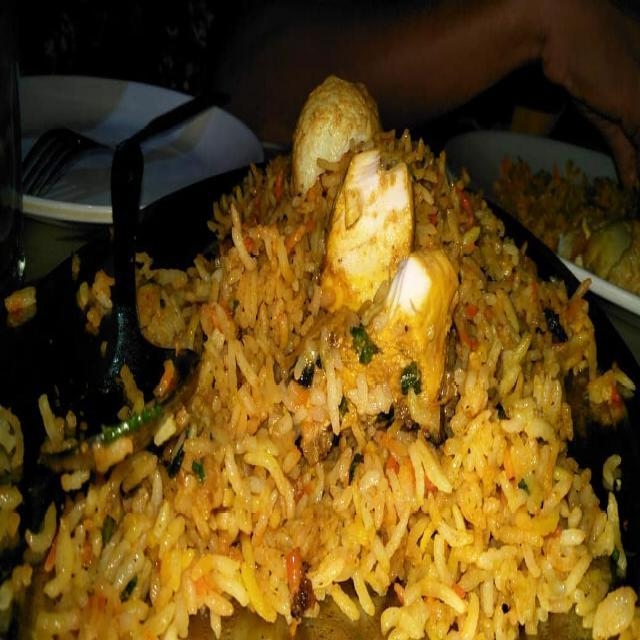biryani: (5, 112, 589, 604)
